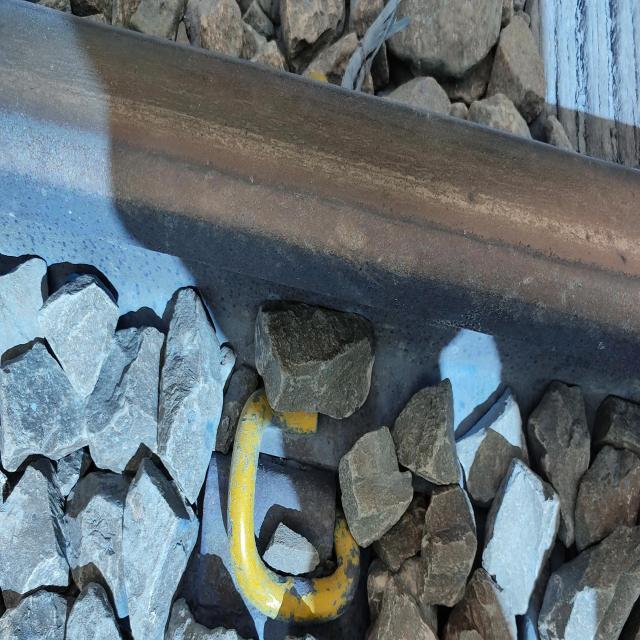Good Fasteners: (180, 388, 362, 640)
